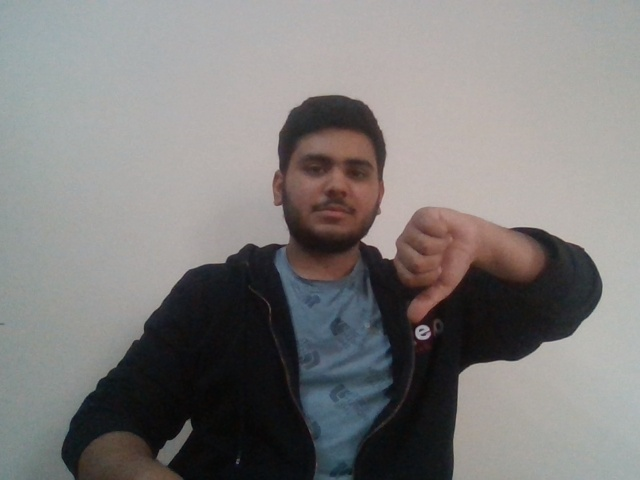No: (389, 204, 483, 323)
